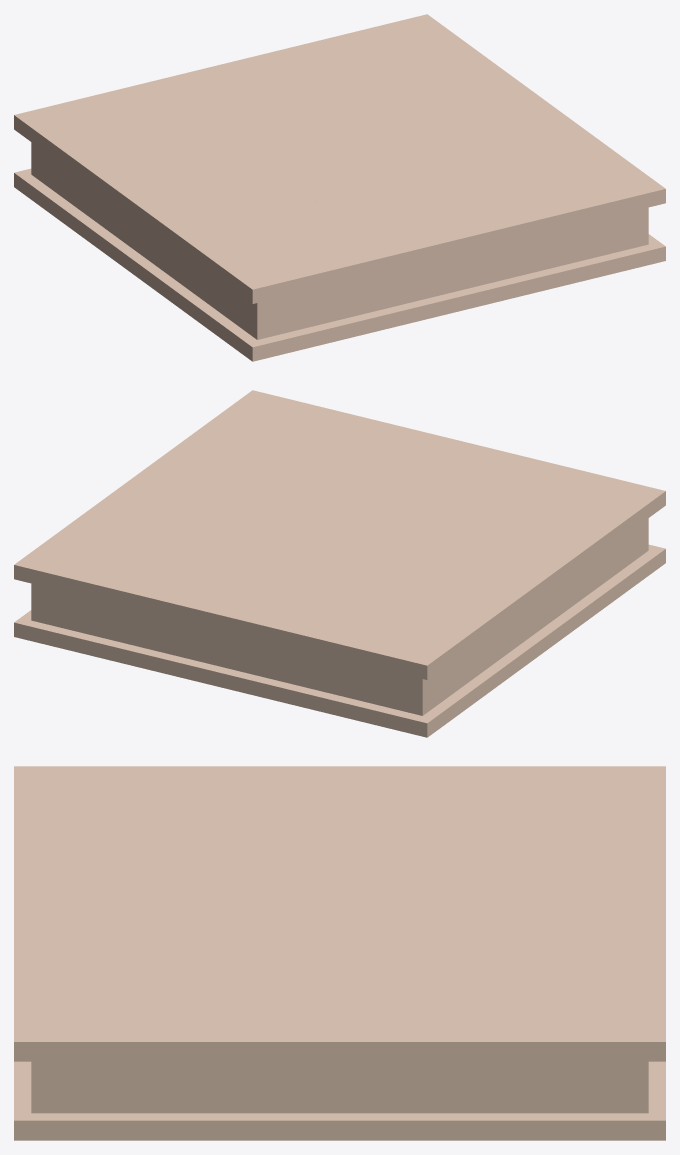
Rendered from Roof.fbx.
The picture shows the model from 3 angles, top to bottom: view 1: azimuth 30°, elevation 25°; view 2: azimuth 150°, elevation 25°; view 3: azimuth 270°, elevation 25°; orthographic projection. The views are drawn at different scales.
Parts seen in each view (by area): view 1: Corner1, Side4, Corner4, Side1, Corner2, Corner3, Center, Side2, Side3; view 2: Corner2, Side2, Corner3, Side1, Corner1, Corner4, Center, Side3, Side4; view 3: Corner3, Side3, Corner4, Center, Side1, Corner1, Corner2, Side2, Side4.
Part boxes in pixels (<box>): Corner1: <box>173,198,390,361</box>; Side4: <box>311,164,528,327</box>; Corner4: <box>449,130,665,294</box>; Side1: <box>93,139,310,302</box>; Corner2: <box>14,81,230,244</box>; Corner3: <box>290,14,506,105</box>; Center: <box>232,106,448,197</box>; Side2: <box>152,48,368,139</box>; Side3: <box>369,72,585,163</box>; Corner2: <box>289,574,506,737</box>; Side2: <box>151,540,368,703</box>; Corner3: <box>14,506,230,670</box>; Side1: <box>369,515,586,678</box>; Corner1: <box>449,457,665,620</box>; Corner4: <box>173,390,389,481</box>; Center: <box>231,482,447,573</box>; Side3: <box>94,448,310,539</box>; Side4: <box>311,424,527,515</box>; Corner3: <box>448,950,665,1140</box>; Side3: <box>231,950,448,1140</box>; Corner4: <box>14,950,231,1140</box>; Center: <box>231,858,448,950</box>; Side1: <box>231,766,448,858</box>; Corner1: <box>14,766,231,858</box>; Corner2: <box>448,766,665,858</box>; Side2: <box>448,858,665,950</box>; Side4: <box>14,858,231,950</box>.
Size of the model in its own units: 1200 by 200 by 1200.
